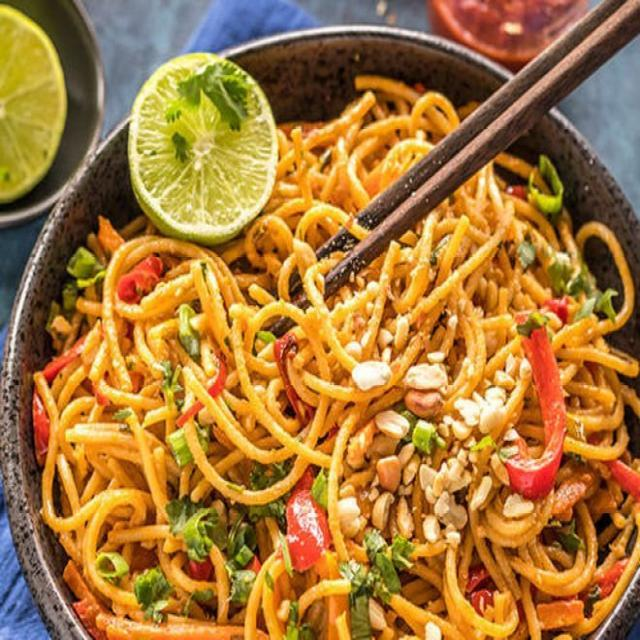Noodle: (44, 78, 623, 640)
